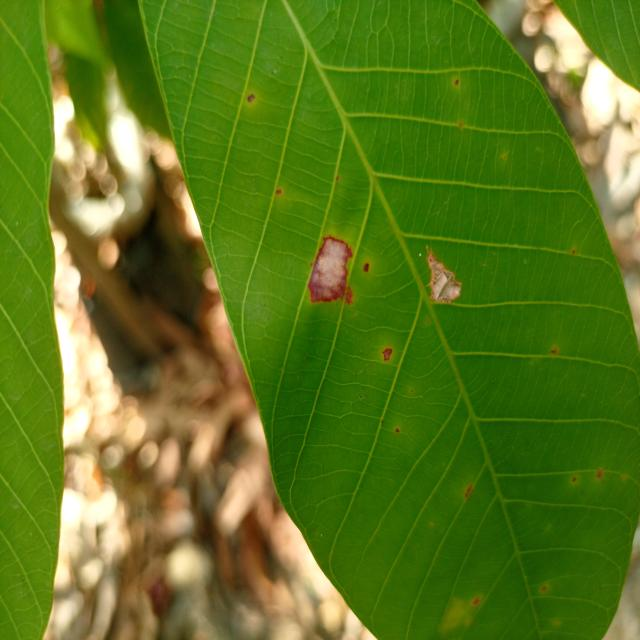Colletotrichum: (248, 94, 255, 103), (364, 263, 370, 272)
Leaf-Blight: (428, 252, 461, 302)
